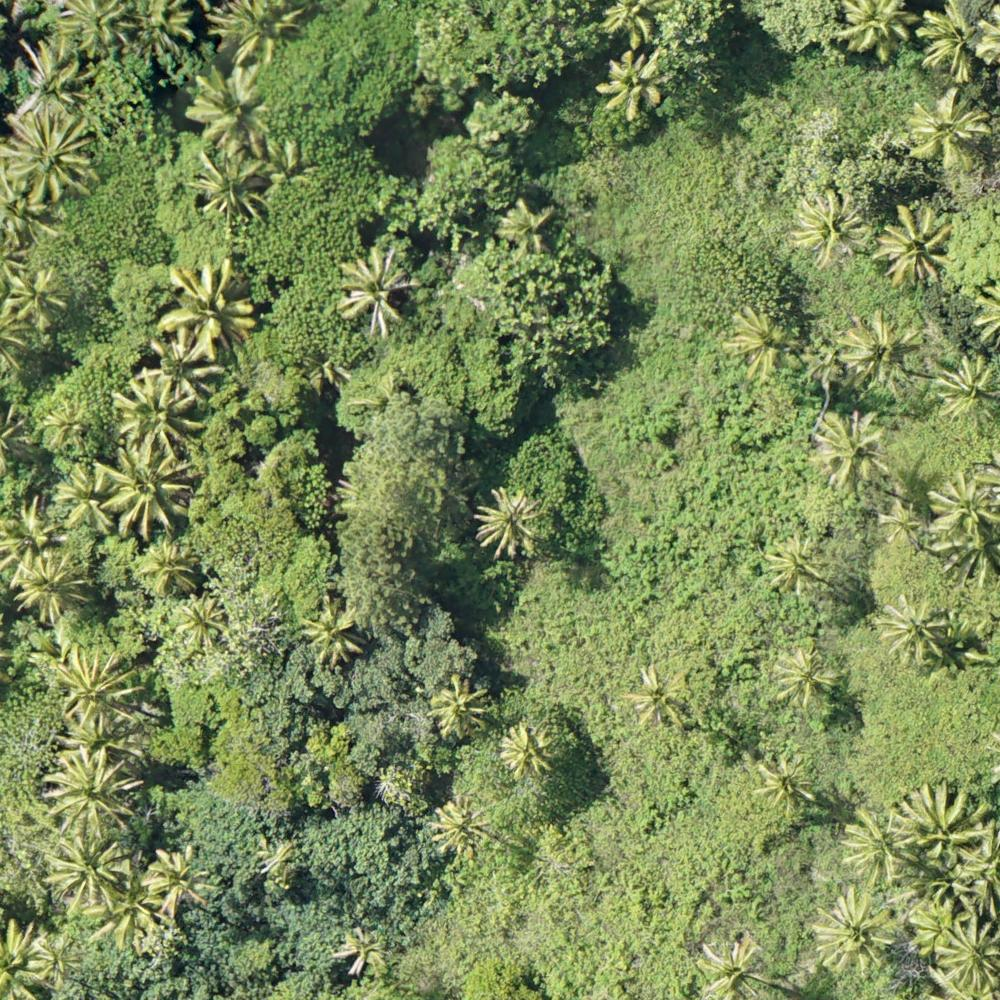Palm: (158, 261, 257, 356), (105, 369, 207, 458), (97, 446, 193, 539), (186, 62, 281, 155), (53, 646, 147, 736), (5, 111, 95, 205), (45, 748, 136, 835), (902, 782, 989, 866), (809, 890, 891, 978), (837, 311, 920, 393), (335, 248, 412, 333), (138, 328, 218, 408), (840, 805, 921, 884), (12, 33, 91, 114), (811, 410, 896, 483), (210, 1, 303, 66), (909, 91, 988, 167), (789, 192, 866, 269), (43, 836, 123, 908), (879, 206, 953, 283), (918, 6, 993, 80), (879, 592, 950, 665), (726, 307, 801, 376), (193, 150, 268, 219), (930, 469, 1000, 541), (929, 922, 998, 994), (836, 1, 913, 64), (475, 489, 542, 561), (60, 1, 139, 62), (50, 464, 119, 531), (301, 601, 370, 666), (20, 554, 87, 619), (932, 355, 995, 424), (697, 938, 769, 998), (146, 847, 208, 915), (606, 54, 670, 118), (774, 646, 839, 709), (762, 531, 825, 590), (12, 263, 69, 328), (628, 667, 686, 729), (757, 754, 816, 814), (497, 194, 551, 256), (433, 673, 487, 734), (137, 545, 199, 596), (433, 798, 488, 855), (29, 934, 85, 988), (333, 924, 388, 978), (496, 725, 555, 775), (174, 599, 226, 648), (880, 498, 925, 541)
